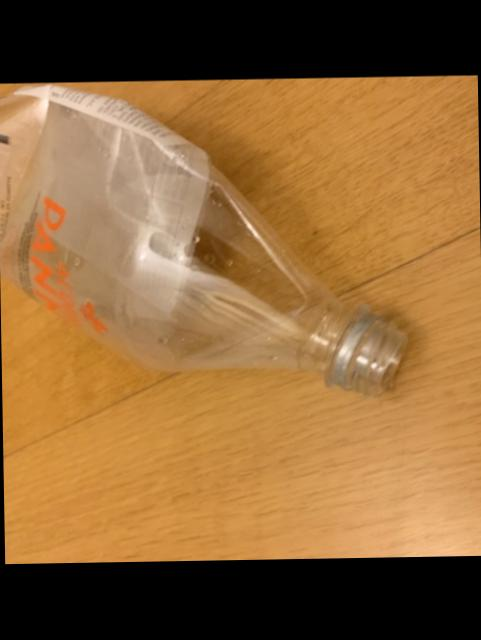plastic: (0, 88, 403, 397)
